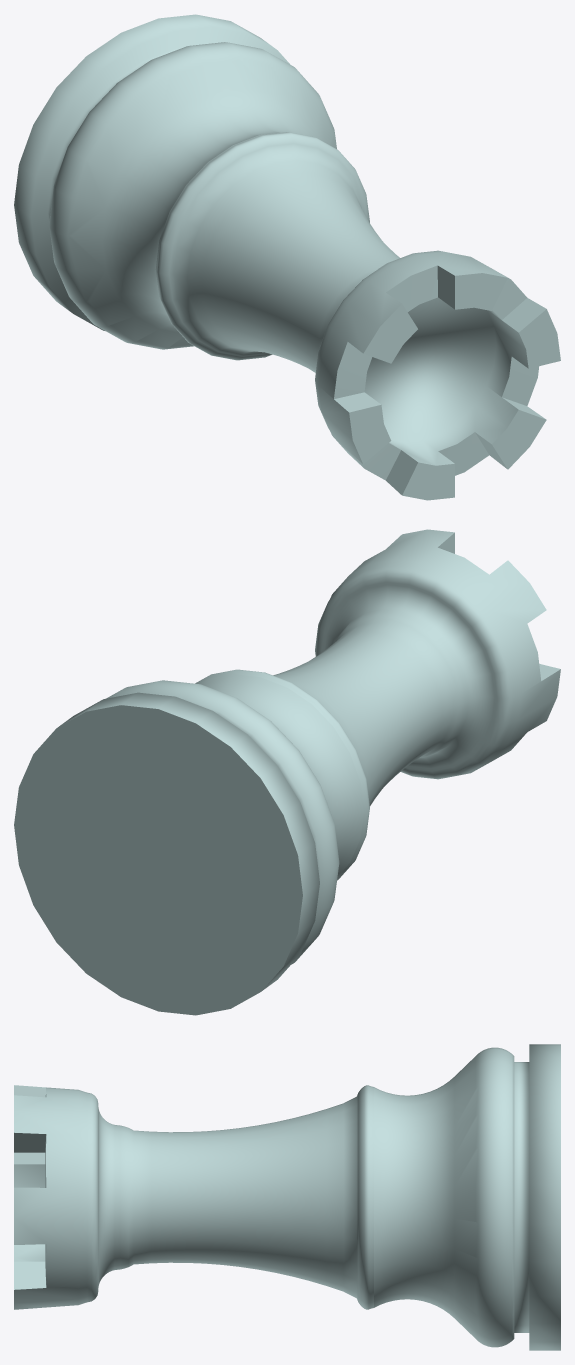
File: Rook.obj
3 views of the same model, one above another, from view 1: azimuth 30°, elevation 25°; view 2: azimuth 150°, elevation 25°; view 3: azimuth 270°, elevation 25° (orthographic). The views are drawn at different scales.
Parts seen in each view (by area): view 1: Mesh2 Agrupar_5_1 Group1 Model, Mesh1 Componente_1_1 Group1 Model; view 2: Mesh1 Componente_1_1 Group1 Model, Mesh2 Agrupar_5_1 Group1 Model; view 3: Mesh2 Agrupar_5_1 Group1 Model, Mesh1 Componente_1_1 Group1 Model.
Boxes of the visible parts, box(x1,y1,x2,y2) form: Mesh2 Agrupar_5_1 Group1 Model: box(155, 132, 560, 500); Mesh1 Componente_1_1 Group1 Model: box(14, 14, 336, 349); Mesh1 Componente_1_1 Group1 Model: box(14, 674, 363, 1015); Mesh2 Agrupar_5_1 Group1 Model: box(195, 529, 560, 880); Mesh2 Agrupar_5_1 Group1 Model: box(14, 1085, 373, 1309); Mesh1 Componente_1_1 Group1 Model: box(374, 1044, 560, 1350).
Size of the model in its own units: 58.14 by 58.14 by 103.
